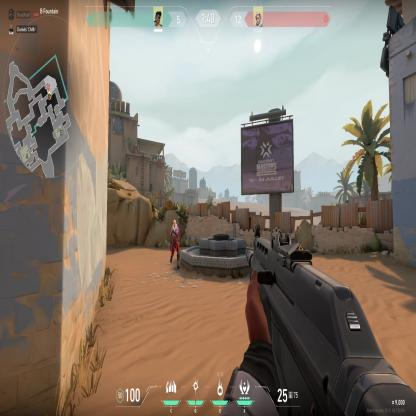enemy: (170, 218, 180, 269)
